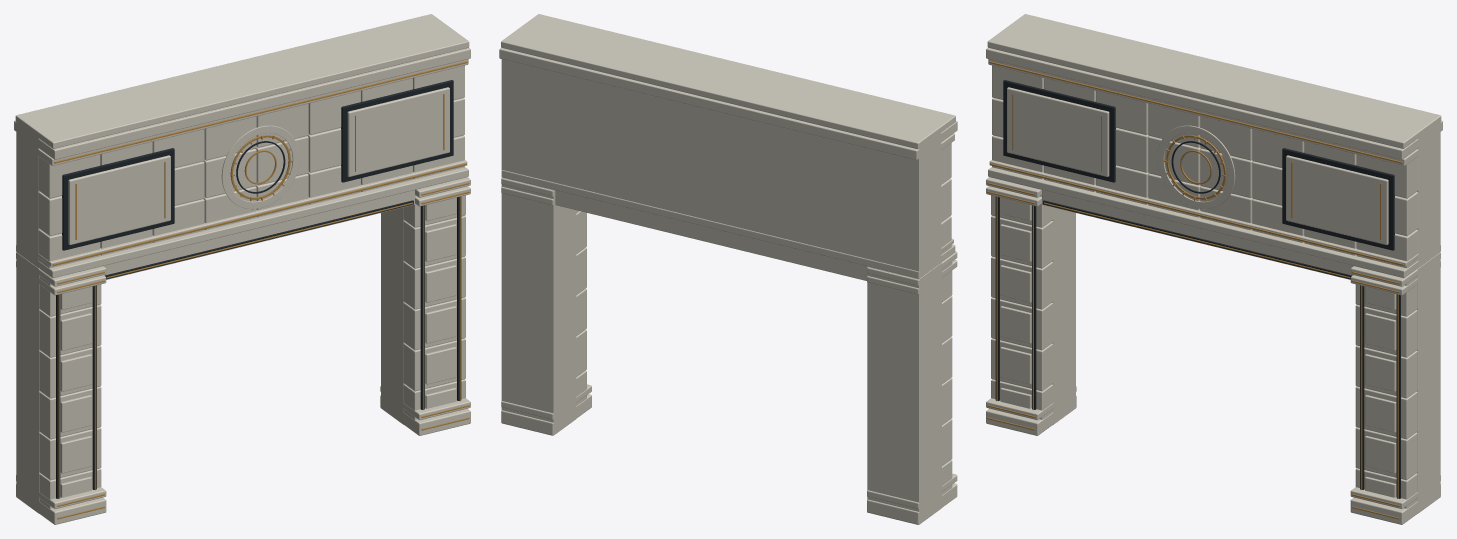
The model's file is SM_Aurelion_KIT_Portal_6x4p5.fbx.
3 renders of one model, left to right at view 1: azimuth 30°, elevation 25°; view 2: azimuth 150°, elevation 25°; view 3: azimuth 330°, elevation 25°, orthographic.
Parts seen in each view (by area): view 1: SM_Aurelion_KIT_Portal_6x4p5; view 2: SM_Aurelion_KIT_Portal_6x4p5; view 3: SM_Aurelion_KIT_Portal_6x4p5.
Part boxes in pixels (box(x1,y1,x2,y2)): SM_Aurelion_KIT_Portal_6x4p5: box(14, 14, 470, 524); SM_Aurelion_KIT_Portal_6x4p5: box(499, 14, 957, 524); SM_Aurelion_KIT_Portal_6x4p5: box(986, 14, 1442, 524).
Size of the model in its own units: 800 by 139 by 700.
